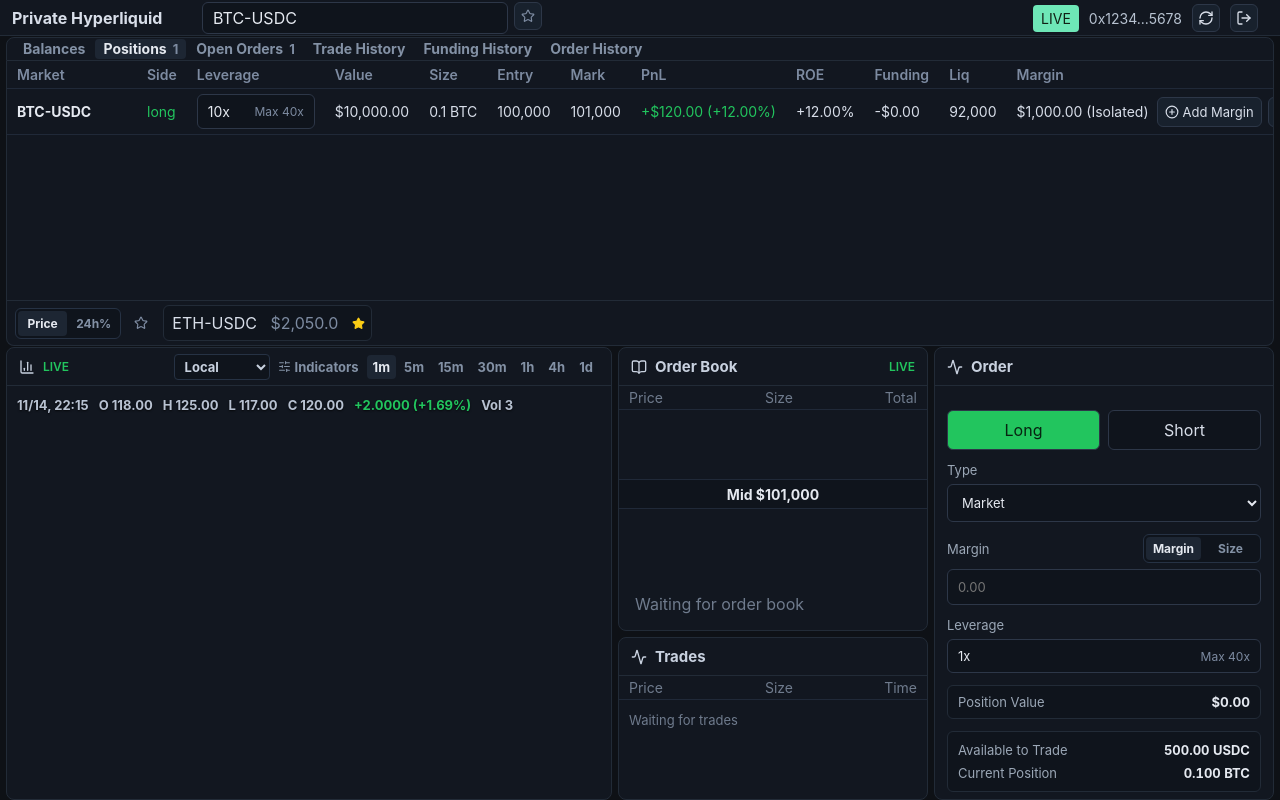
App › shows enabled indicator values for the candle under the crosshair
The width and height of the screenshot is (1280, 800).
Click the button "Indicators": click(318, 366) [272, 354, 365, 378]
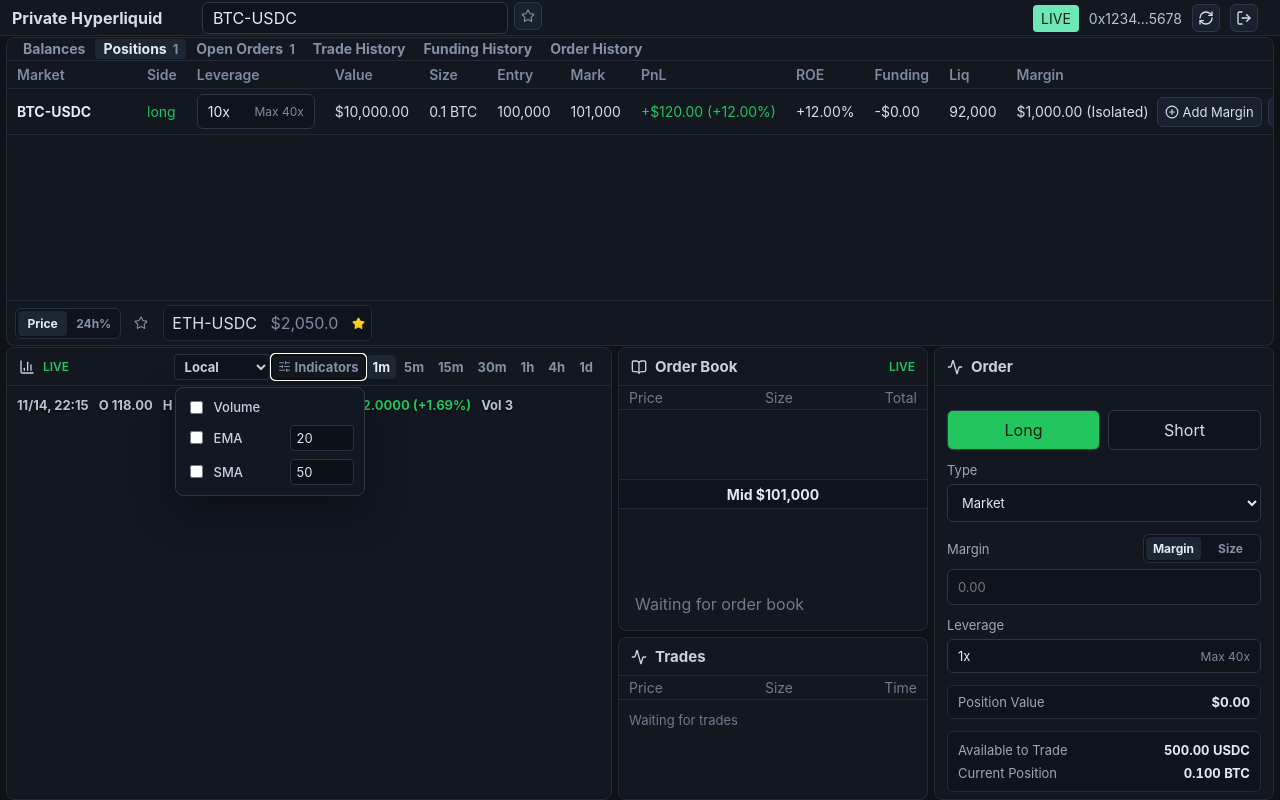
Replace the text in the number field named "ema period" with "2": (322, 438) [290, 424, 354, 450]
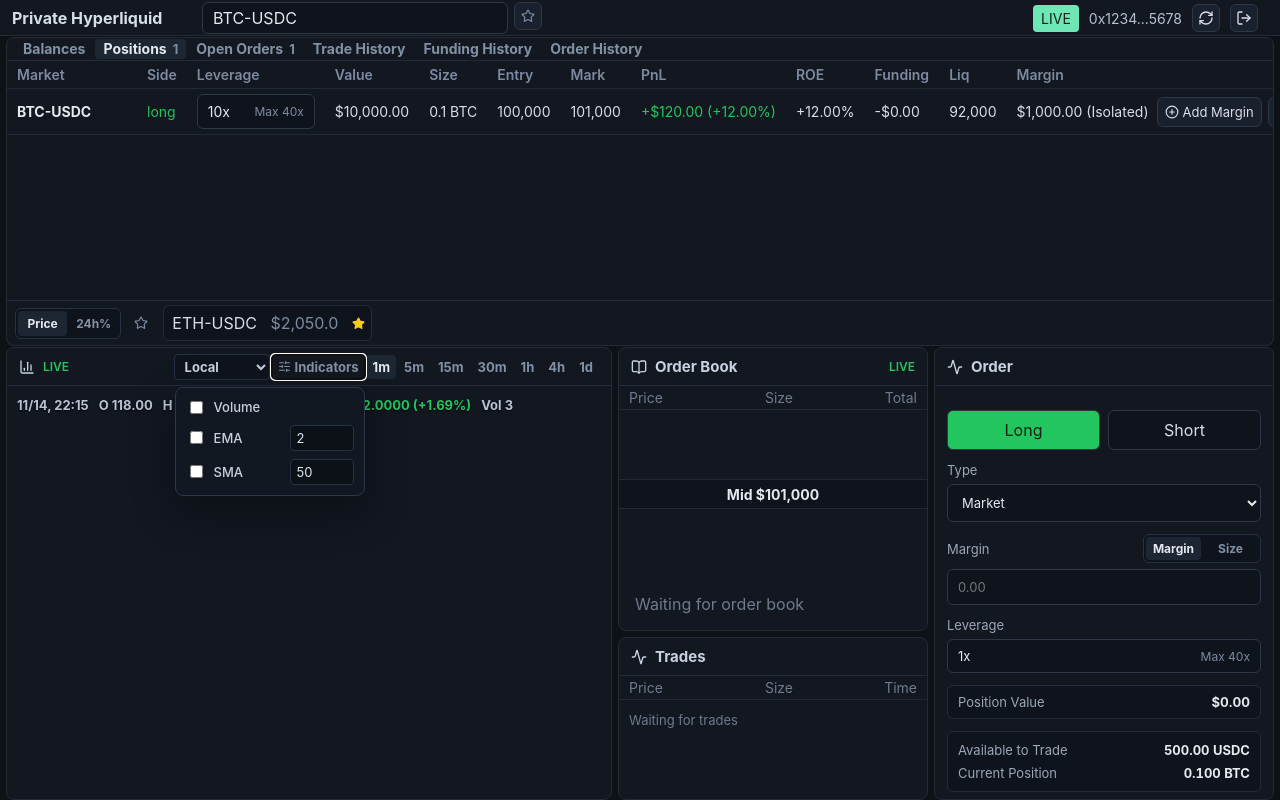
Replace the text in the number field named "sma period" with "3": (322, 472) [290, 458, 354, 484]
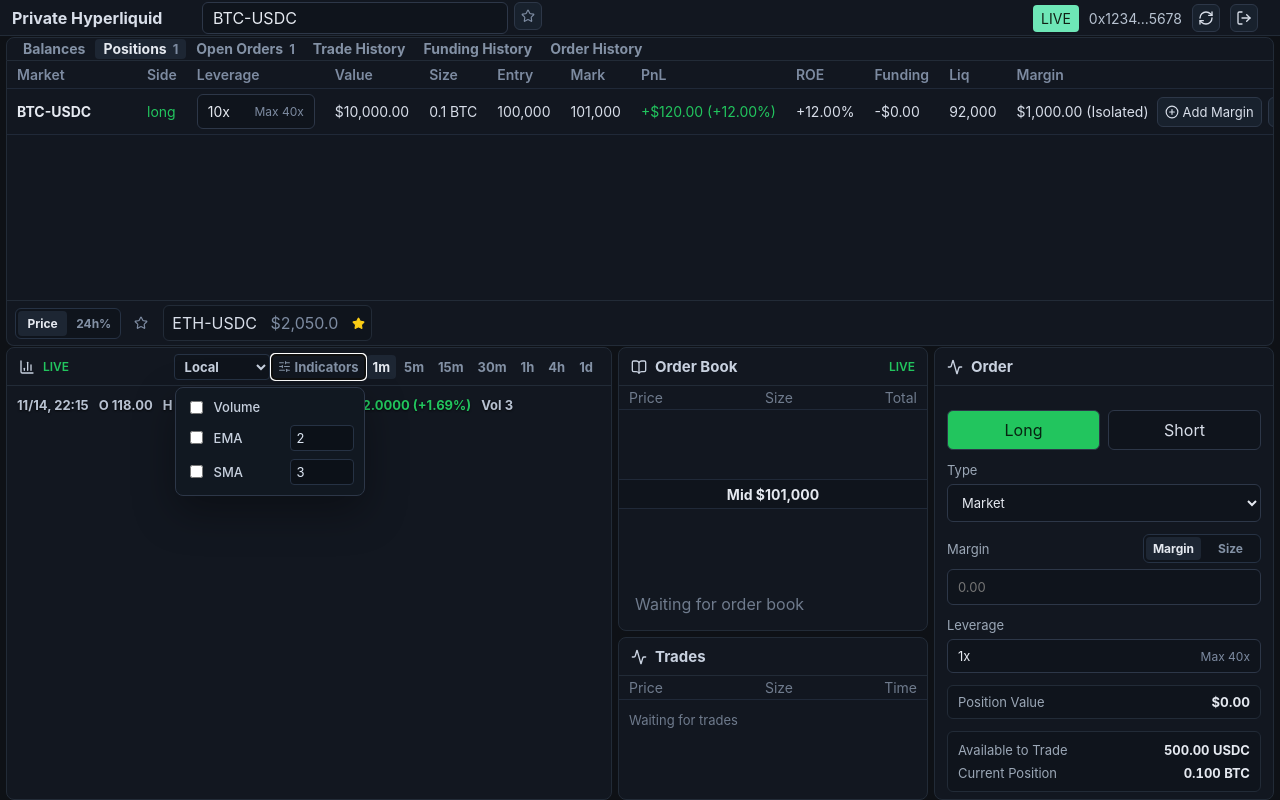
Click the checkbox labelled "EMA": click(196, 438) [190, 431, 203, 444]
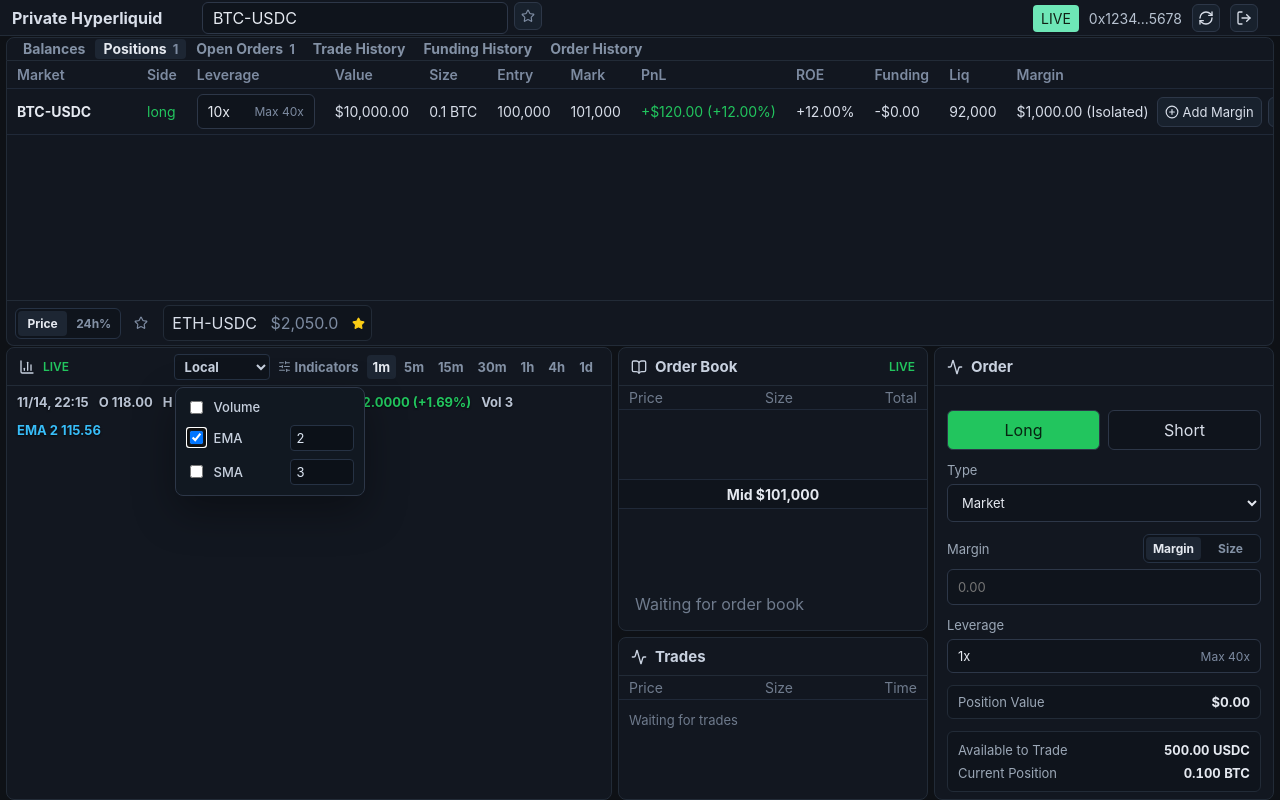
Click the checkbox labelled "SMA": click(196, 472) [190, 465, 203, 478]
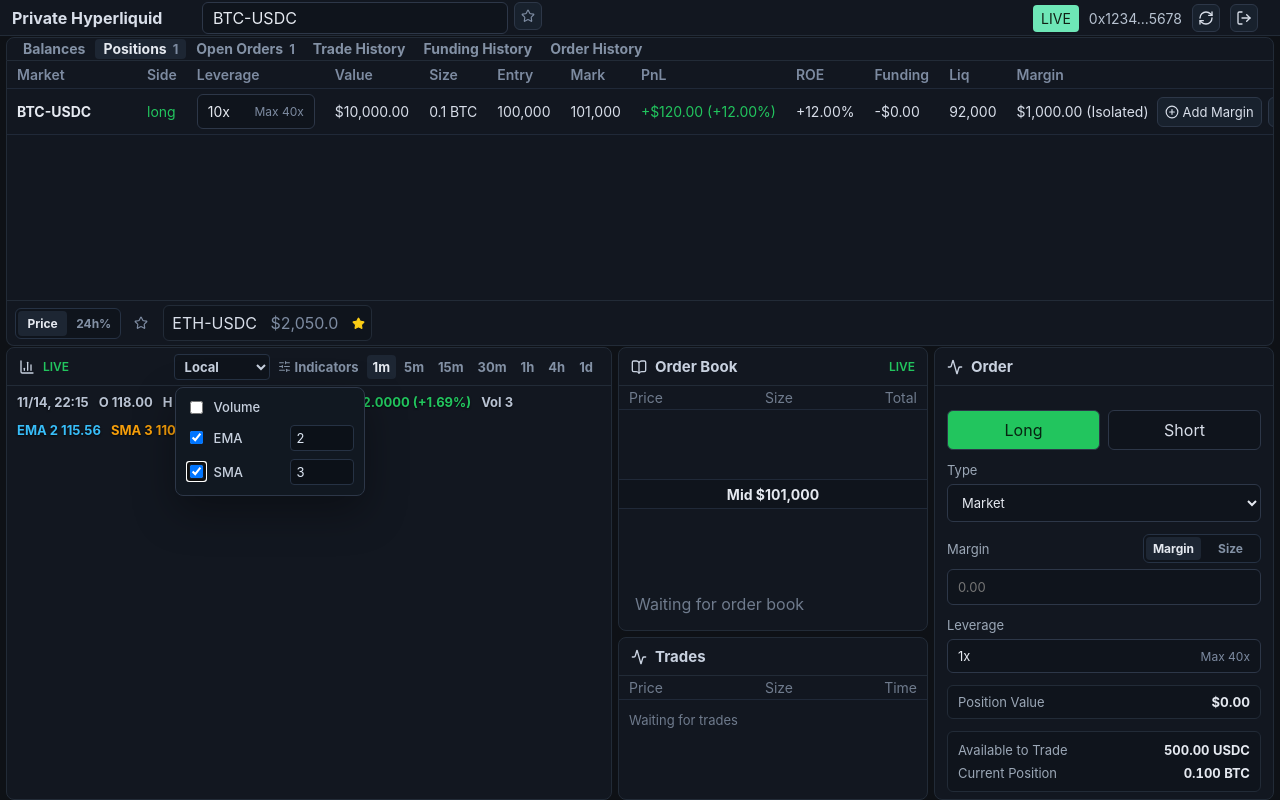
Expected: the element named "selected candle details" shows "EMA 2 115.56", [17, 394, 525, 439]
Expected: the element named "selected candle details" shows "SMA 3 110.00", [17, 394, 525, 439]
